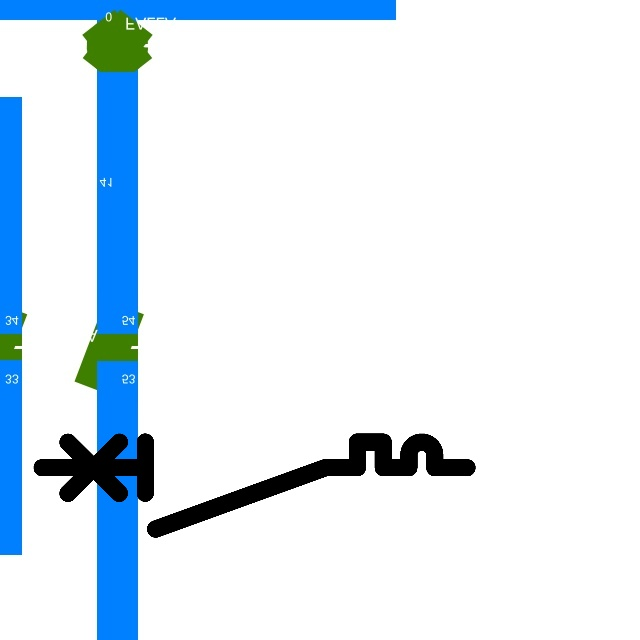interruptor_termomagnetico: (31, 431, 478, 540)
